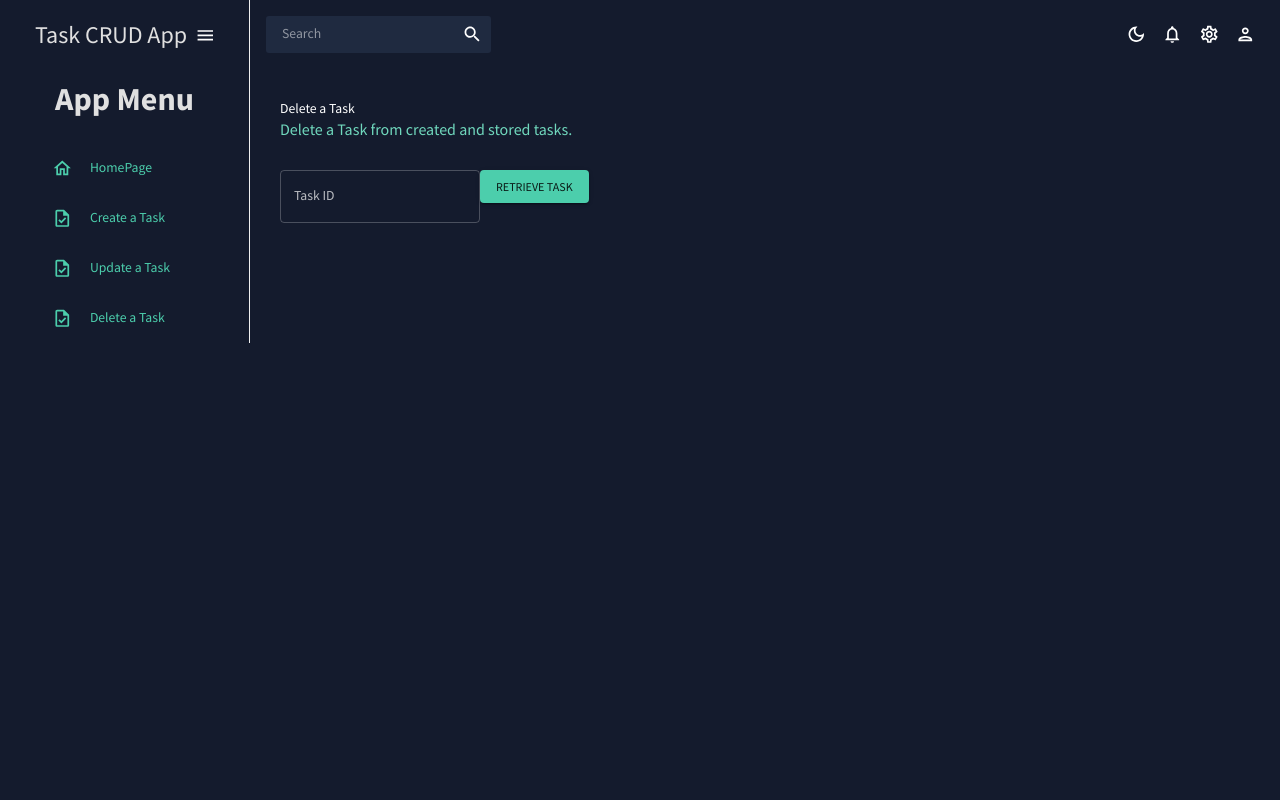
Test: Delete Task › should complete full deletion flow
The image size is (1280, 800).
Note: Task Retrieval Phase
Type "101" into the field labelled "Task ID" at (380, 198), box [280, 171, 480, 224]
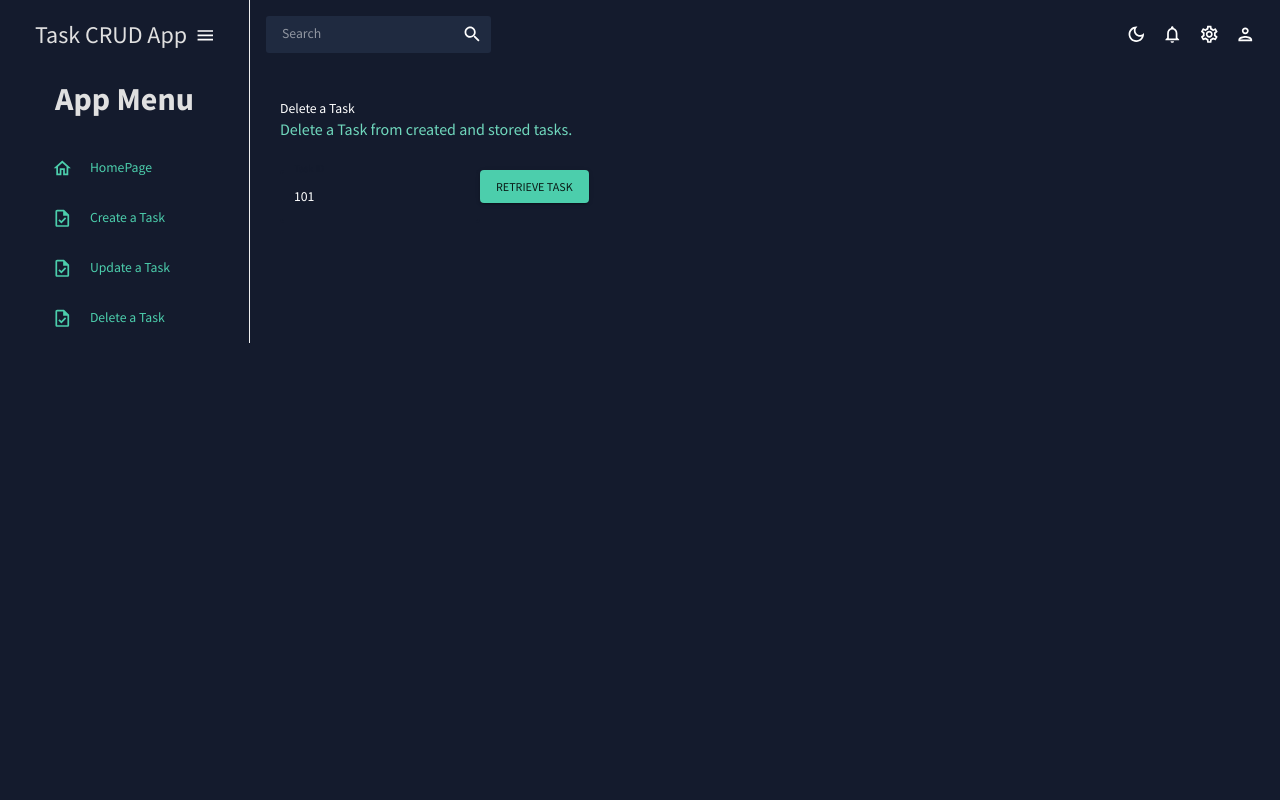
Click the button "Retrieve task" at (535, 188), box [480, 171, 589, 204]
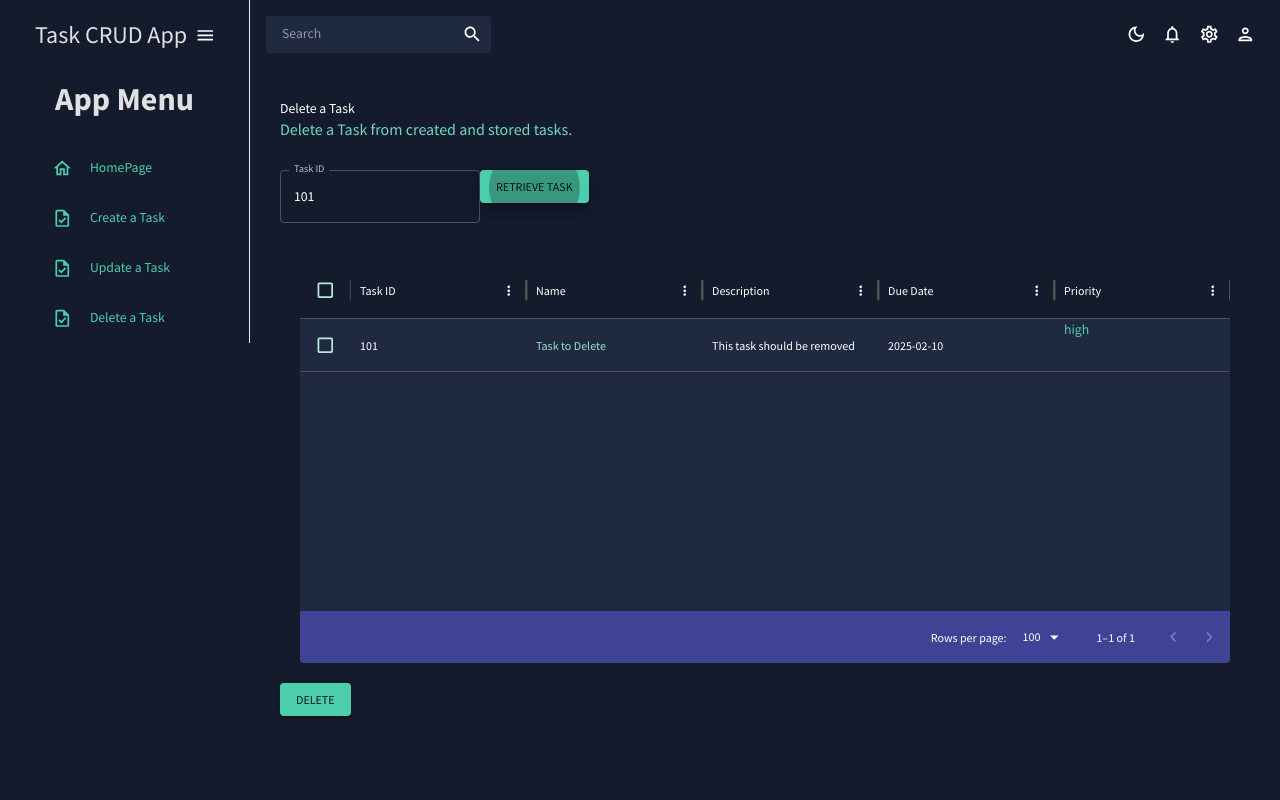
Note: Deletion confirmation
Click the button with test id "delete-btn" at (316, 700), box [280, 683, 351, 716]
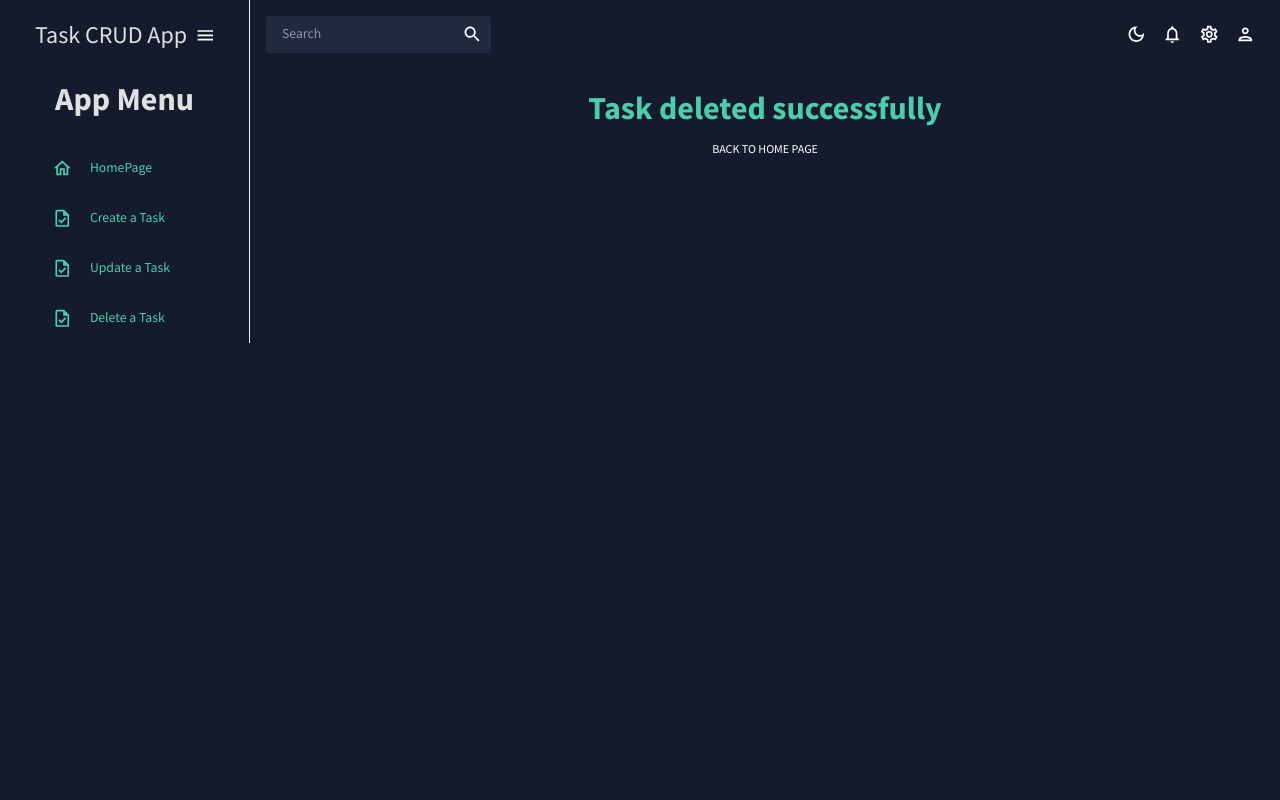
Expected: the heading "Task deleted successfully" is shown, [588, 89, 942, 127]
